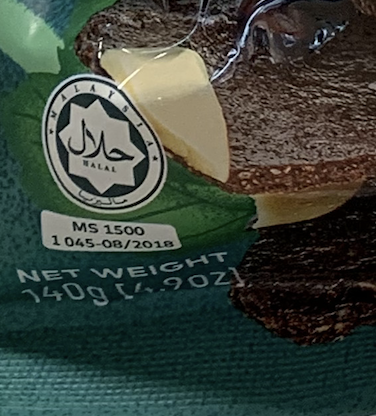halal: (53, 88, 153, 207)
